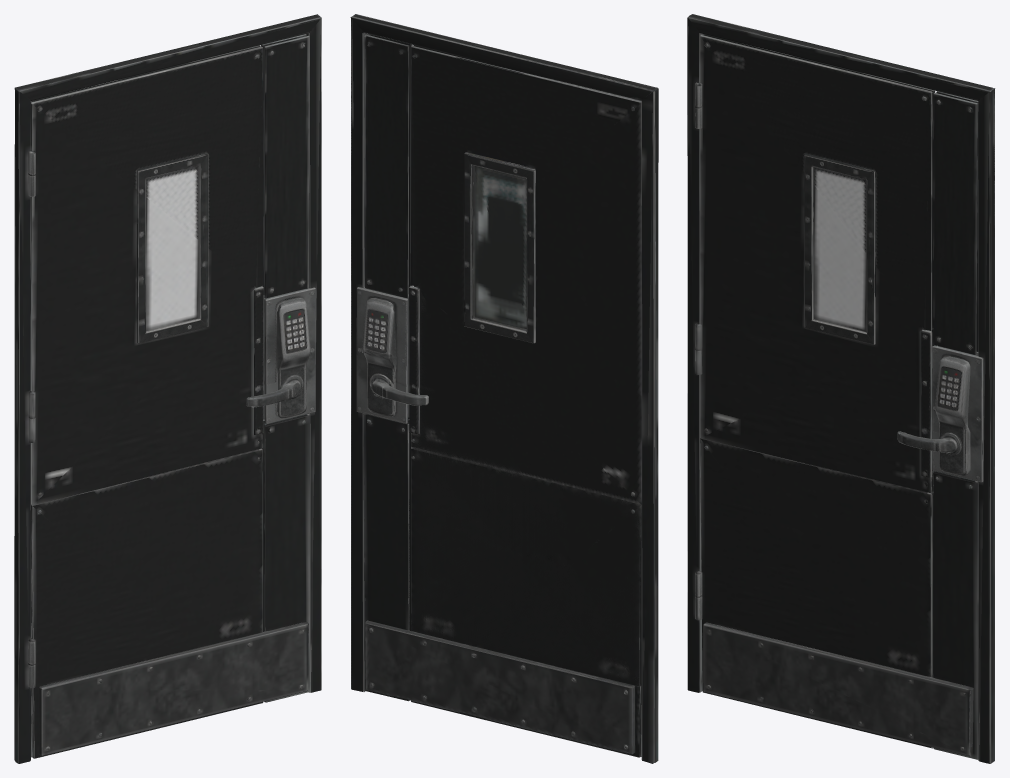
Rendered from tech_door_leaf.glb.
3 renders of one model, left to right at view 1: azimuth 30°, elevation 25°; view 2: azimuth 150°, elevation 25°; view 3: azimuth 330°, elevation 25°, orthographic.
Bounding box in the file's own units: 0.4492 × 0.9512 × 0.0728.
Materials: 1 (1 with a texture image).
